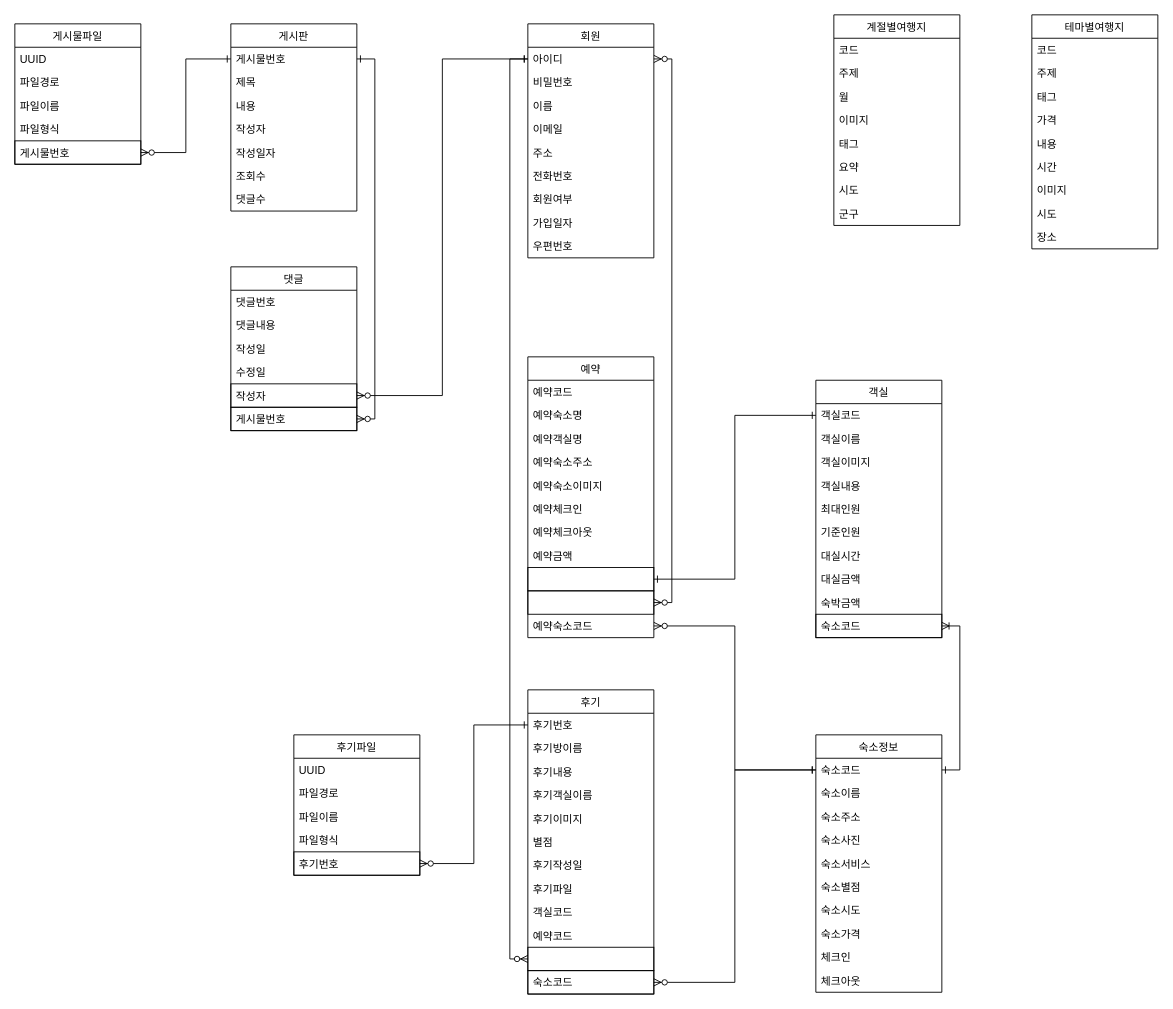
Image size: 1173x1009. Some labels were removed from this diagram. The shapes that lost their labels are listed below. From the top down, each one's centre as x and y in pixels, then its label:
point 590,579: 예약객실코드
point 590,602: 예약자ID
point 590,958: 작성자아이디
